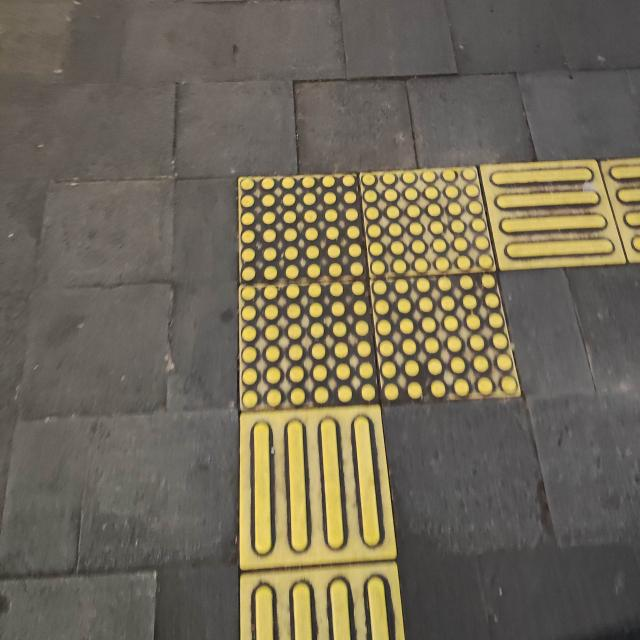kanan: (171, 124, 640, 479)
